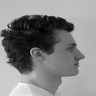ear: (27, 41, 50, 66)
